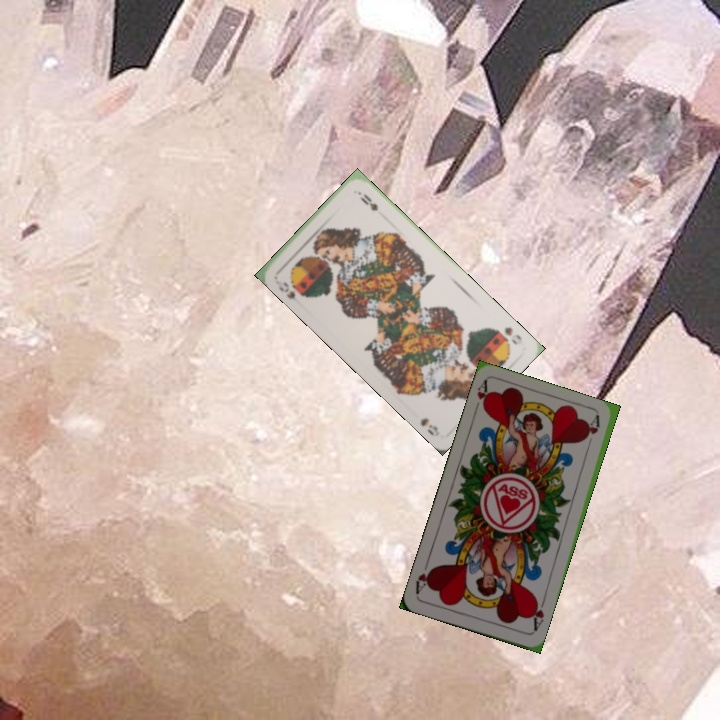HA: (469, 377, 493, 417), (526, 595, 548, 634)
SO: (274, 278, 309, 308), (501, 323, 524, 347)
